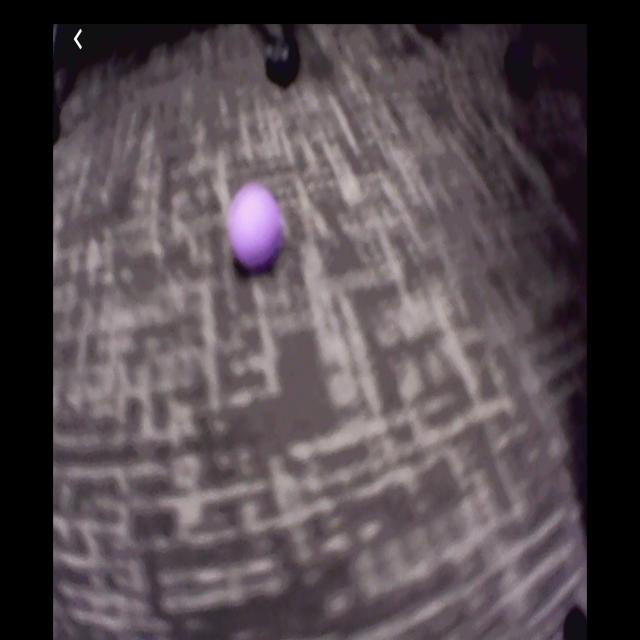ball: (230, 179, 282, 270)
